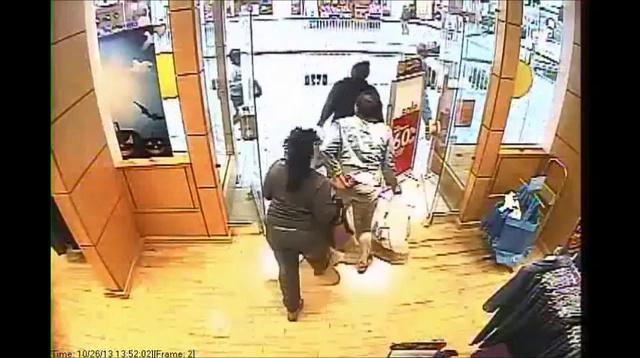3: (214, 119, 353, 338), (327, 98, 423, 272), (313, 42, 390, 101)
persone: (378, 180, 419, 261), (321, 209, 358, 256)
